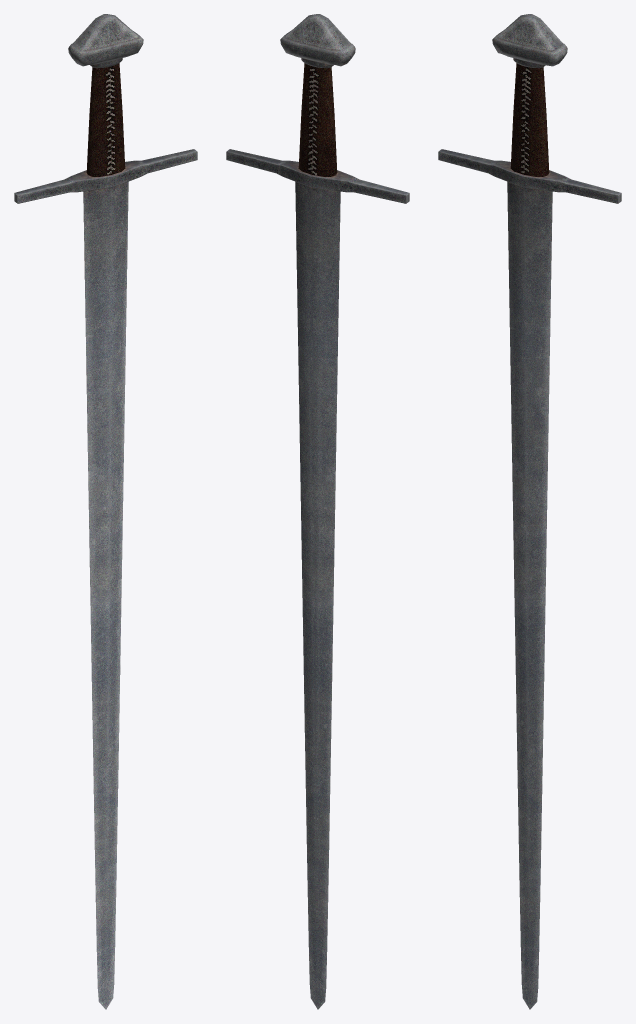
Rendered from SM_Sword_2_500tris.glb.
3 views of the same model, side by side, from view 1: azimuth 30°, elevation 25°; view 2: azimuth 150°, elevation 25°; view 3: azimuth 330°, elevation 25° (orthographic).
Parts seen in each view (by area): view 1: SM_Sword_2; view 2: SM_Sword_2; view 3: SM_Sword_2.
Boxes of the visible parts, x1,y1,x2,y2 form: SM_Sword_2: [14, 14, 197, 1009]; SM_Sword_2: [226, 14, 409, 1009]; SM_Sword_2: [438, 14, 621, 1009].
Size of the model in its own units: 0.1608 by 0.8484 by 0.023.
1 material, 1 textured.
